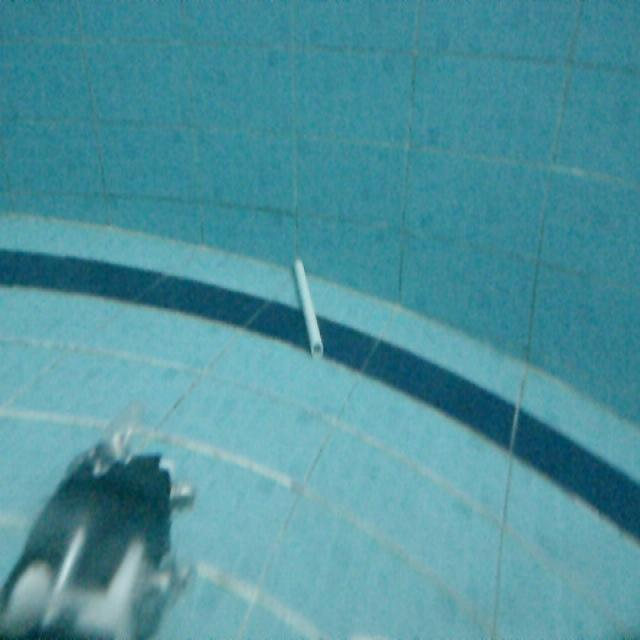Cube: (294, 256, 328, 364)
